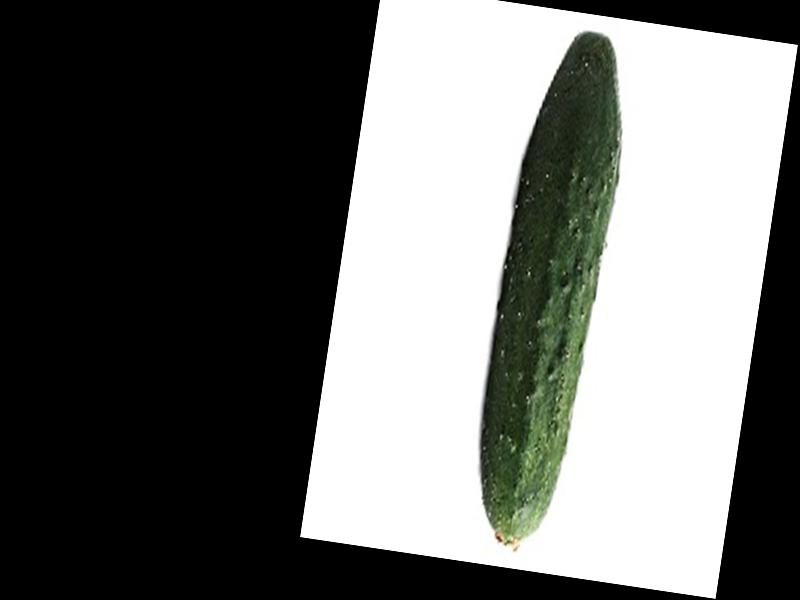Cucumber: (463, 23, 637, 555)
